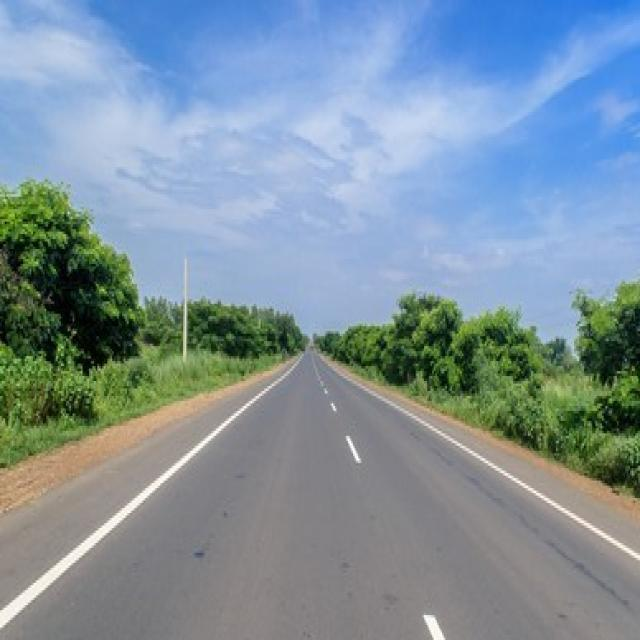Clean road: (0, 338, 640, 640)
